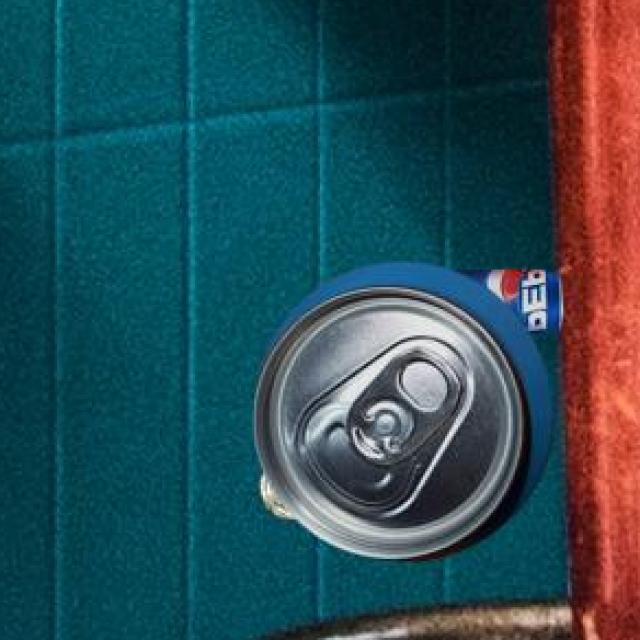logam: (258, 260, 558, 558), (461, 266, 567, 330), (264, 470, 299, 516)
